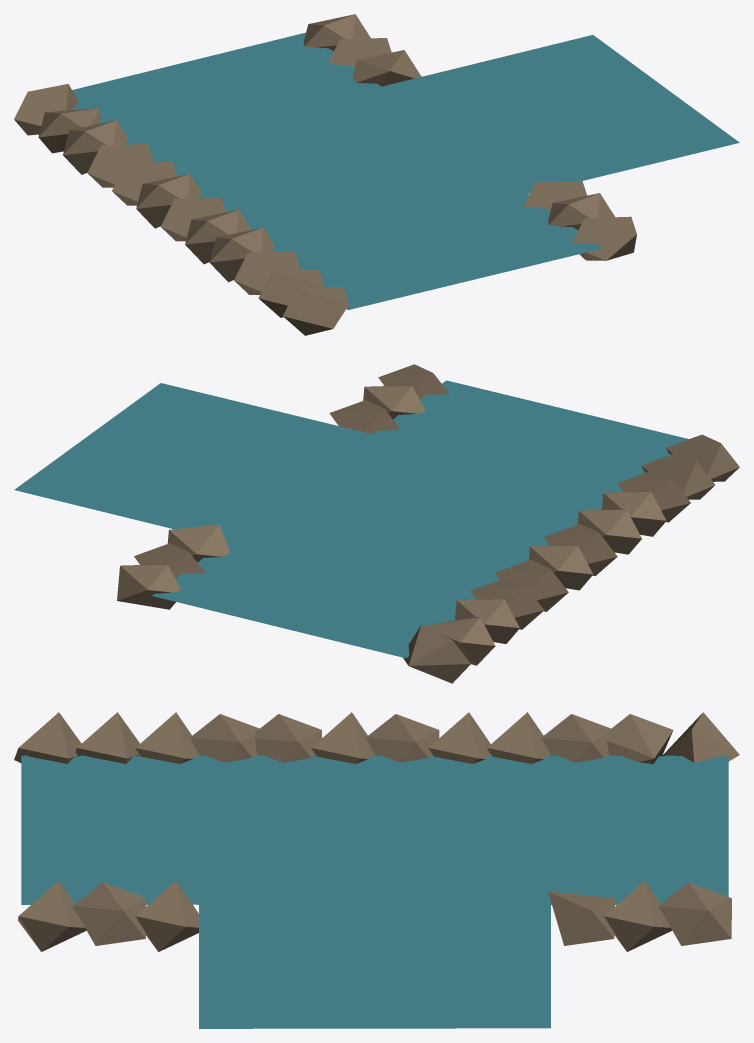
File: landscape-river-tee.lod2.glb
3 views of the same model, one above another, from view 1: azimuth 30°, elevation 25°; view 2: azimuth 150°, elevation 25°; view 3: azimuth 270°, elevation 25° (orthographic). The views are drawn at different scales.
Visible parts, largest first — view 1: landscape-river-tee__body; view 2: landscape-river-tee__body; view 3: landscape-river-tee__body.
Boxes of the visible parts, x1,y1,x2,y2 form: landscape-river-tee__body: (14,14,739,335); landscape-river-tee__body: (14,364,739,683); landscape-river-tee__body: (14,712,739,1028).
Bounding box in the file's own units: 6.12 × 0.5253 × 6.2.
